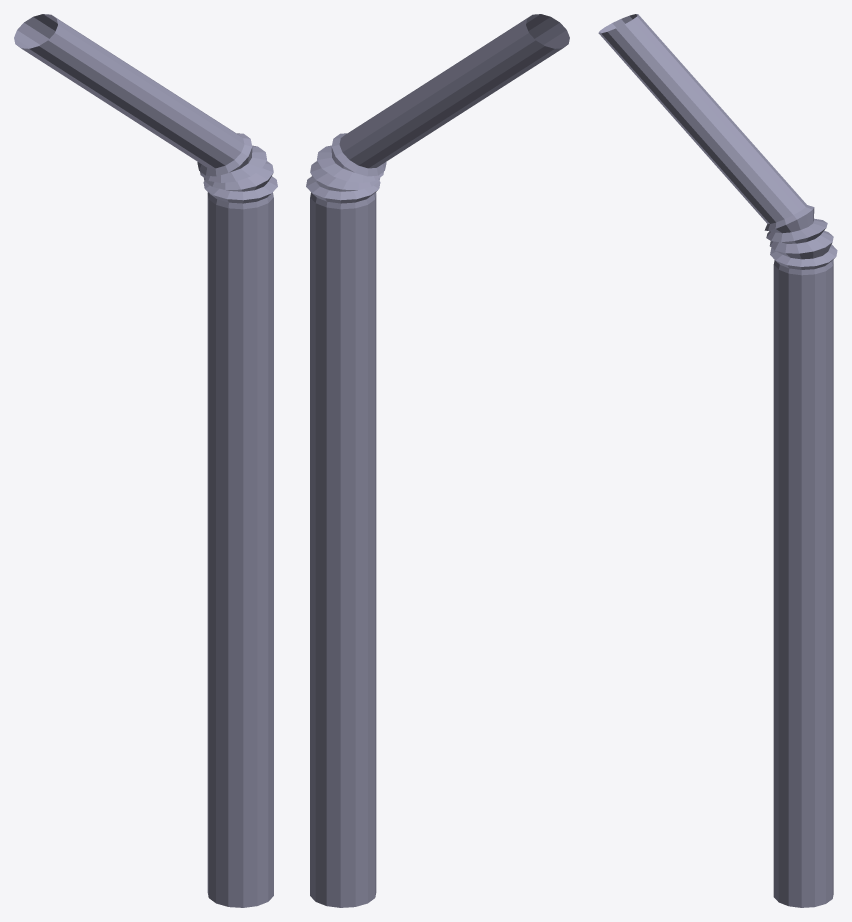
Rendered from straw.fbx.
The picture shows the model from 3 angles, left to right: view 1: azimuth 30°, elevation 25°; view 2: azimuth 150°, elevation 25°; view 3: azimuth 330°, elevation 25°; orthographic projection. The views are drawn at different scales.
Visible parts, largest first — view 1: straw; view 2: straw; view 3: straw.
Boxes of the visible parts, x1,y1,x2,y2 form: straw: (14, 14, 277, 907); straw: (306, 14, 569, 907); straw: (598, 14, 837, 907).
Size of the model in its own units: 76.25 by 264 by 19.56.
